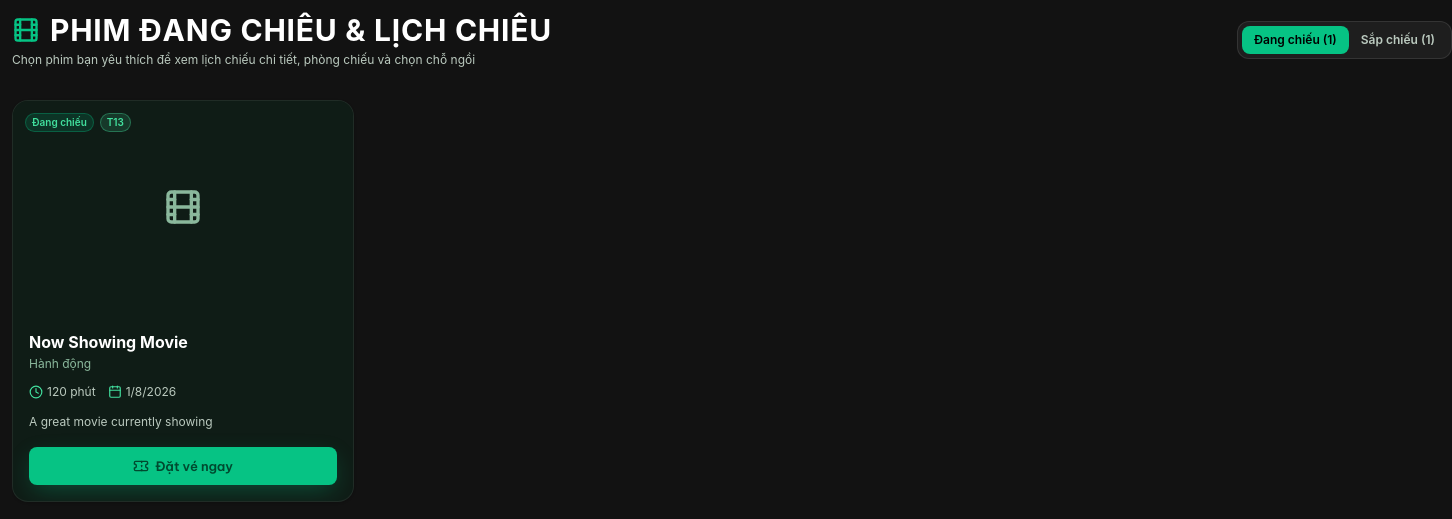
UserMoviesPage › defaults to NOW_SHOWING tab and switches to COMING_SOON correctly without ALL button
Expected: the heading "Now Showing Movie" is shown, [29, 332, 188, 352]
Expected: the text "Coming Soon Movie" is not shown
Note: Switch to "Sắp chiếu"
Click the button "Sắp chiếu (1)" at (1398, 40), box [1349, 26, 1447, 54]
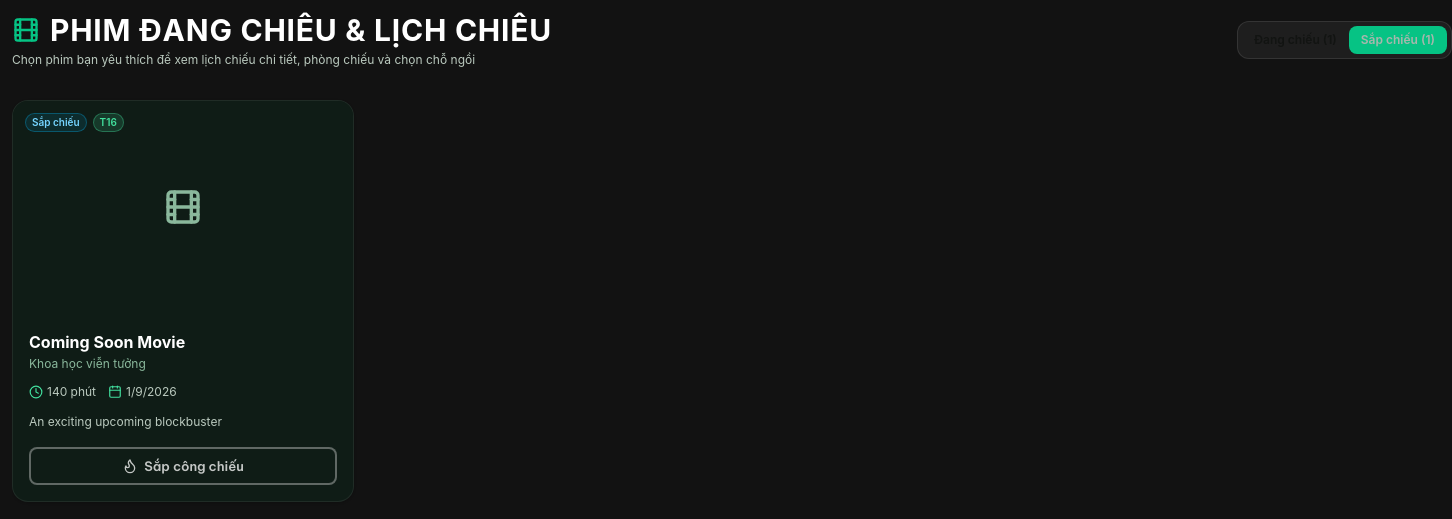
Expected: the heading "Coming Soon Movie" is shown, [29, 332, 185, 352]
Expected: the button "Now Showing Movie" is gone
